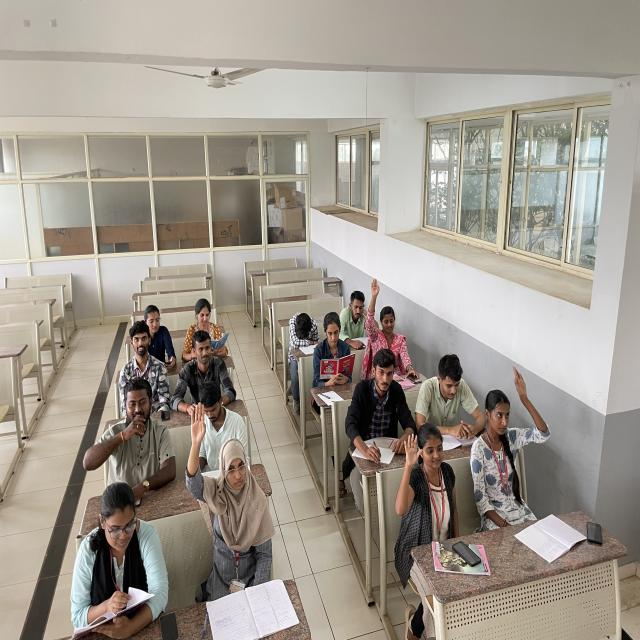Hand Rising: (180, 401, 274, 593), (469, 366, 555, 514), (394, 422, 464, 543), (360, 273, 414, 373)
Reading: (63, 480, 174, 639), (419, 349, 481, 443), (311, 308, 356, 384), (183, 294, 231, 352), (340, 286, 377, 351)
Sleeping: (285, 307, 321, 358)
Using Phone: (145, 303, 178, 376)
Writing: (344, 345, 414, 470)
